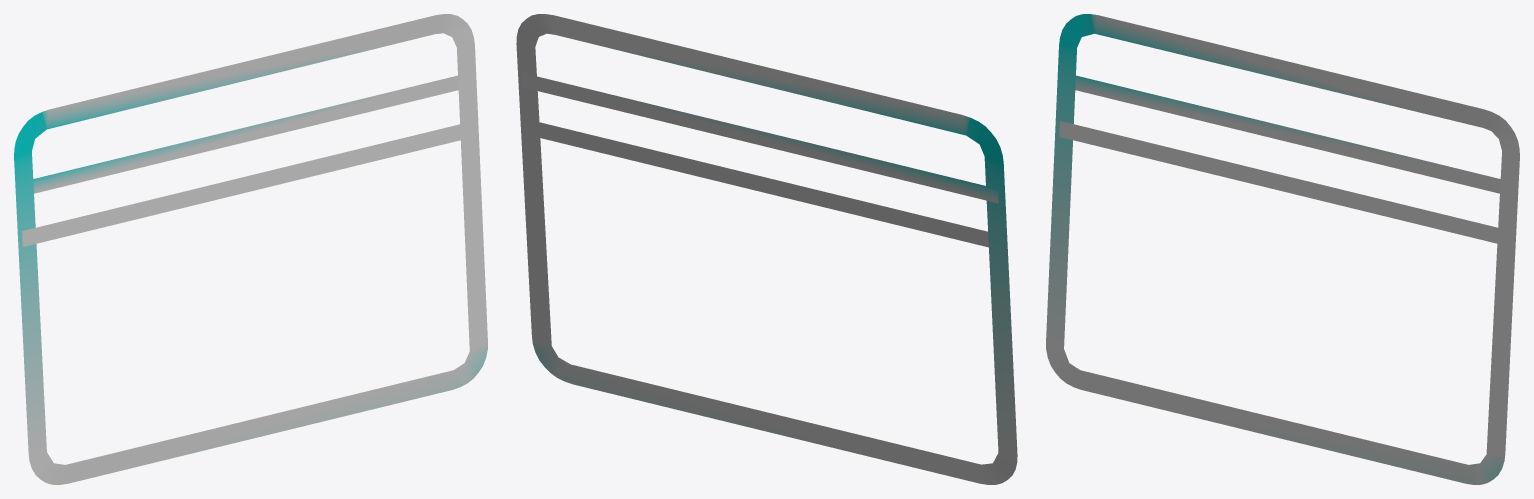
The model's file is SM_window_edgedirt_02.fbx.
3 views of the same model, side by side, from view 1: azimuth 30°, elevation 25°; view 2: azimuth 150°, elevation 25°; view 3: azimuth 330°, elevation 25° (orthographic). The views are drawn at different scales.
Parts seen in each view (by area): view 1: SM_window_edgedirt_02; view 2: SM_window_edgedirt_02; view 3: SM_window_edgedirt_02.
Part boxes in pixels (left/top/right/bottom): SM_window_edgedirt_02: left=14, top=14, right=487, bottom=484; SM_window_edgedirt_02: left=516, top=14, right=1017, bottom=484; SM_window_edgedirt_02: left=1046, top=14, right=1519, bottom=484.
Size of the model in its own units: 118 by 7.74 by 88.43.
